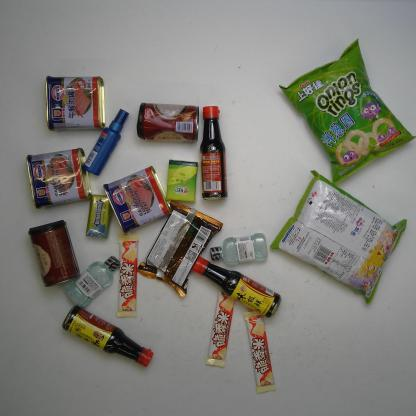Canned Food: (102, 166, 174, 235), (26, 147, 92, 209), (28, 220, 81, 288), (45, 74, 106, 132), (136, 102, 200, 143)
Chocolate: (243, 309, 276, 395), (205, 285, 236, 369), (116, 234, 140, 318)
Dessert: (136, 199, 224, 299)
Gum: (86, 194, 111, 238)
Personal Hygiene: (81, 108, 130, 176), (62, 255, 121, 308), (209, 232, 268, 266)
Puffed Food: (278, 38, 416, 184), (270, 170, 408, 305)
Seasoner: (61, 304, 154, 367), (192, 255, 281, 318), (199, 105, 229, 201)
Tissue: (166, 159, 198, 202)
